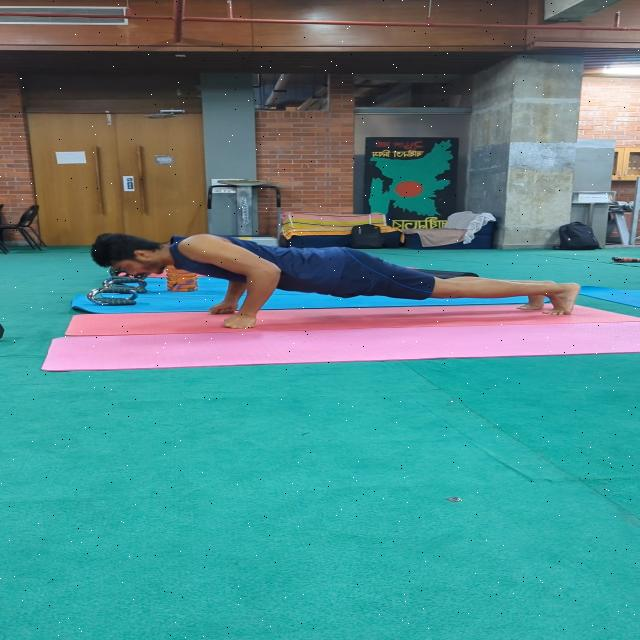Normal_PushUps: (65, 225, 616, 340)
